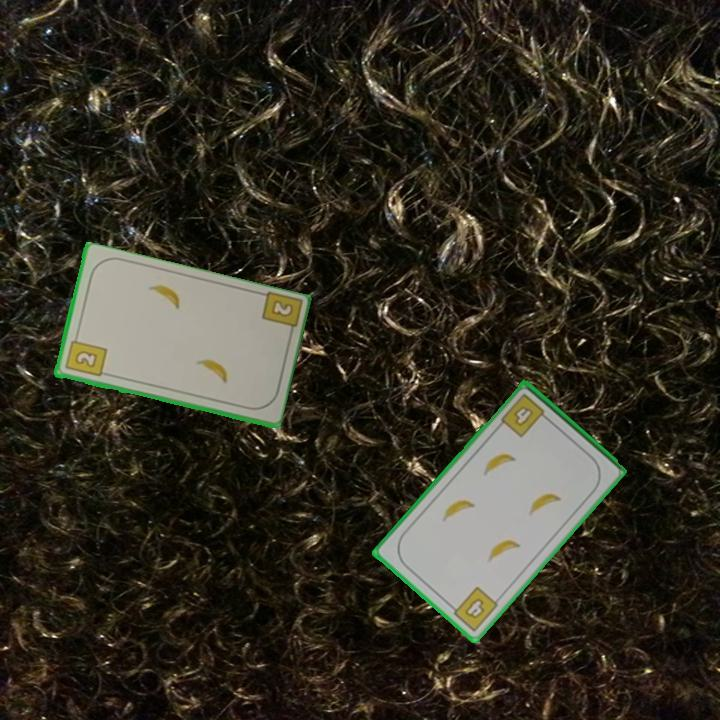2b: (61, 331, 109, 380), (258, 289, 303, 341)
4b: (445, 583, 501, 635), (497, 390, 552, 441)
